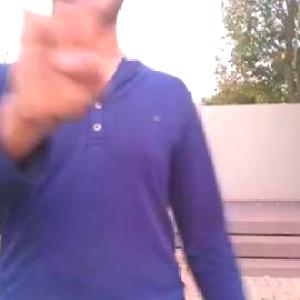takeoff-hand: (4, 0, 130, 109)
